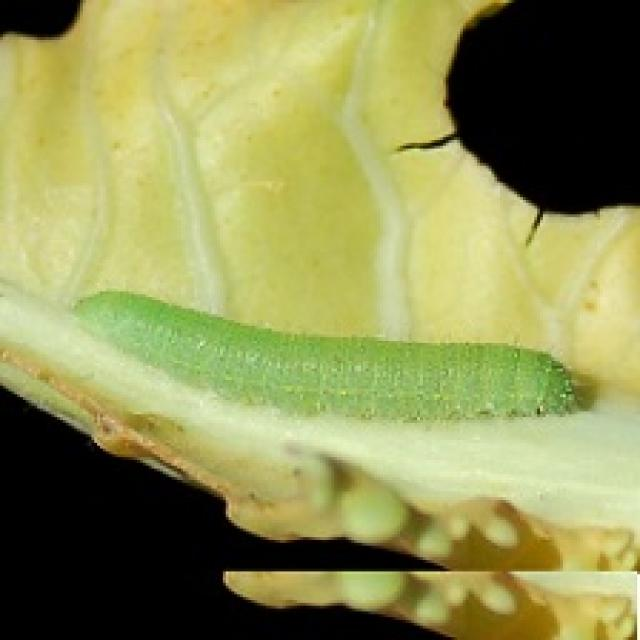Cabbage-worm: (69, 277, 581, 440)
